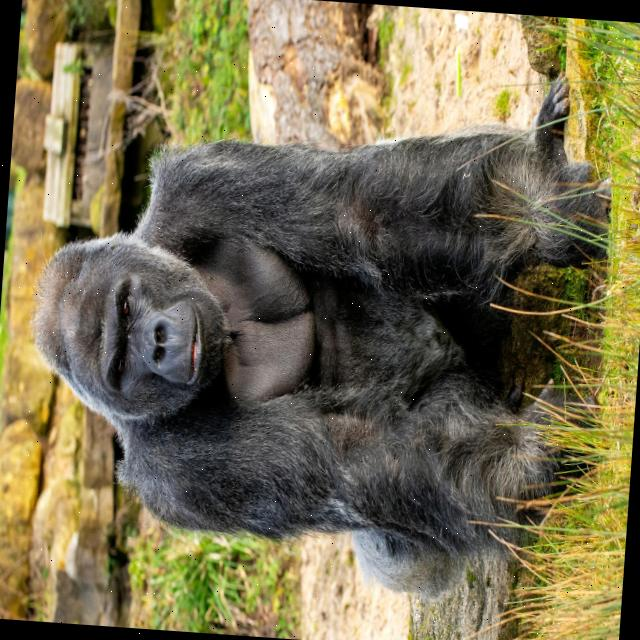Gorilla: (12, 39, 620, 600)
